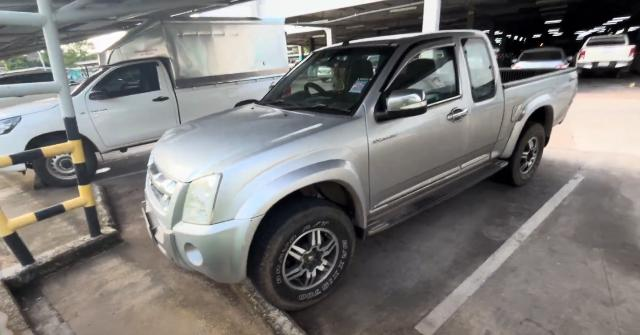pickup-truck: (140, 32, 579, 307)
